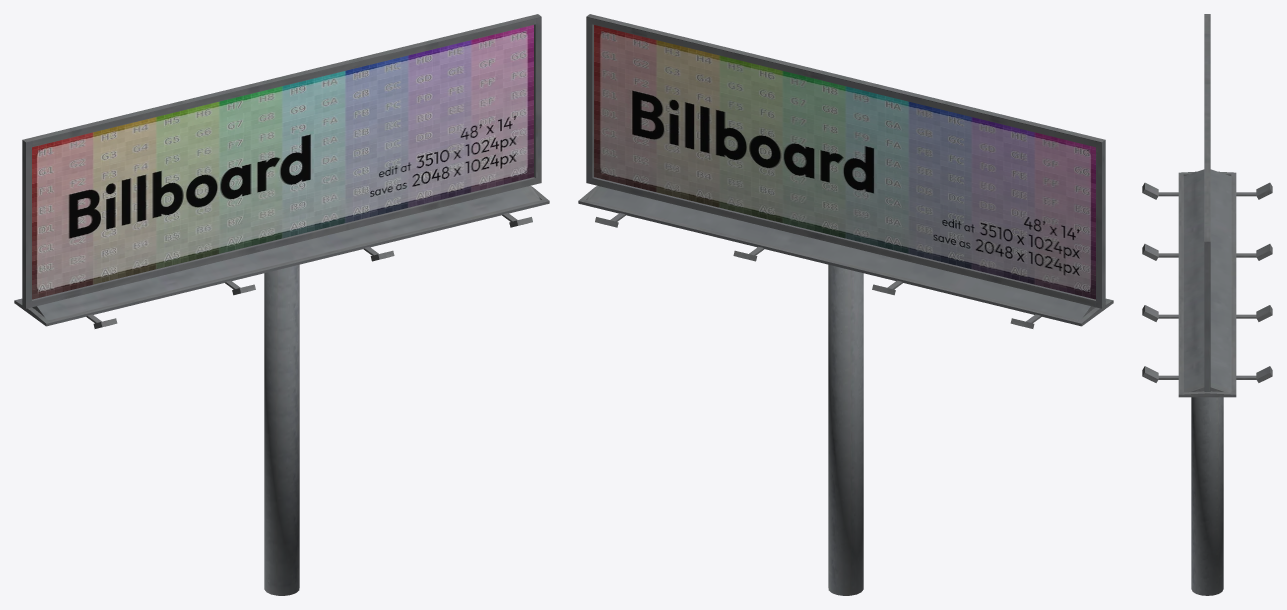
File: billboard.lod0.glb
3 views of the same model, side by side, from view 1: azimuth 30°, elevation 25°; view 2: azimuth 150°, elevation 25°; view 3: azimuth 270°, elevation 25° (orthographic). The views are drawn at different scales.
Visible parts, largest first — view 1: Object_4, Object_5; view 2: Object_4, Object_5; view 3: Object_5.
Boxes of the visible parts, x1,y1,x2,y2 form: Object_4: (32,25,533,299); Object_5: (14,14,549,595); Object_4: (594,25,1095,299); Object_5: (578,14,1113,595); Object_5: (1142,14,1272,595).
Size of the model in its own units: 7.93 by 7.5 by 1.92.
Materials: 2 (2 with a texture image).
